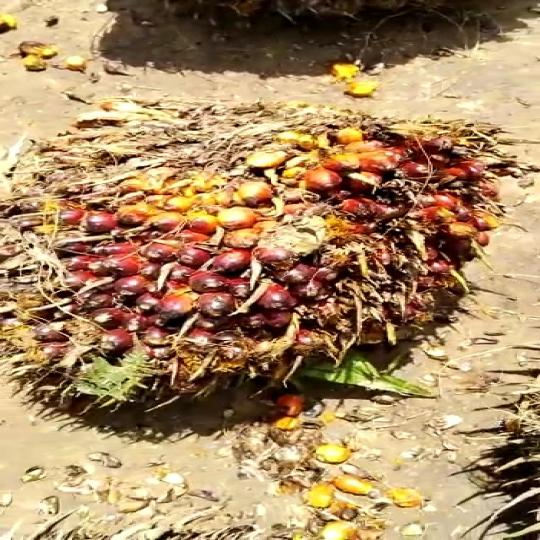masak: (0, 69, 529, 431)
